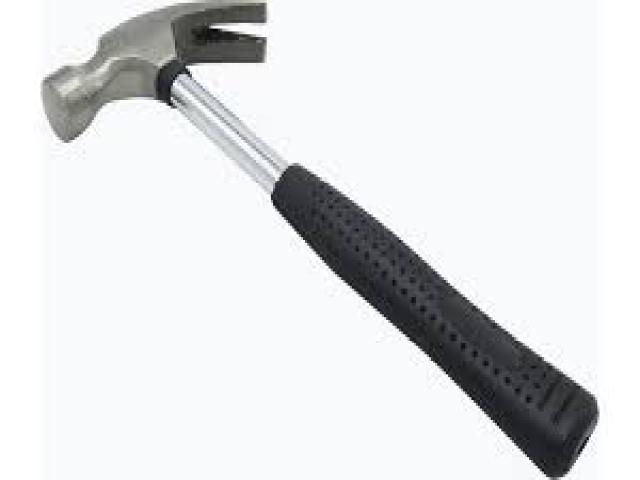Hammer: (42, 3, 595, 475)
